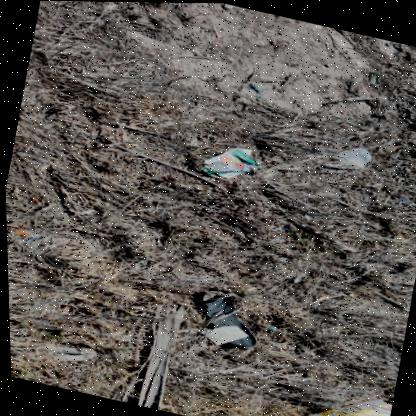Plastic: (300, 397, 390, 416), (202, 149, 258, 177), (333, 146, 369, 164)
Waste: (198, 289, 255, 346), (199, 324, 248, 343), (222, 146, 251, 155), (245, 81, 262, 90), (258, 323, 273, 329), (24, 236, 39, 240), (371, 74, 377, 81), (259, 94, 262, 97)
